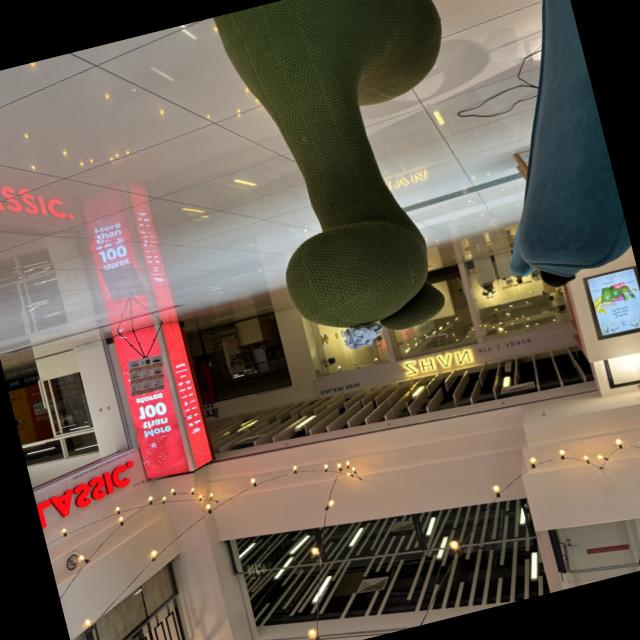crumpled_paper: (338, 317, 388, 355)
